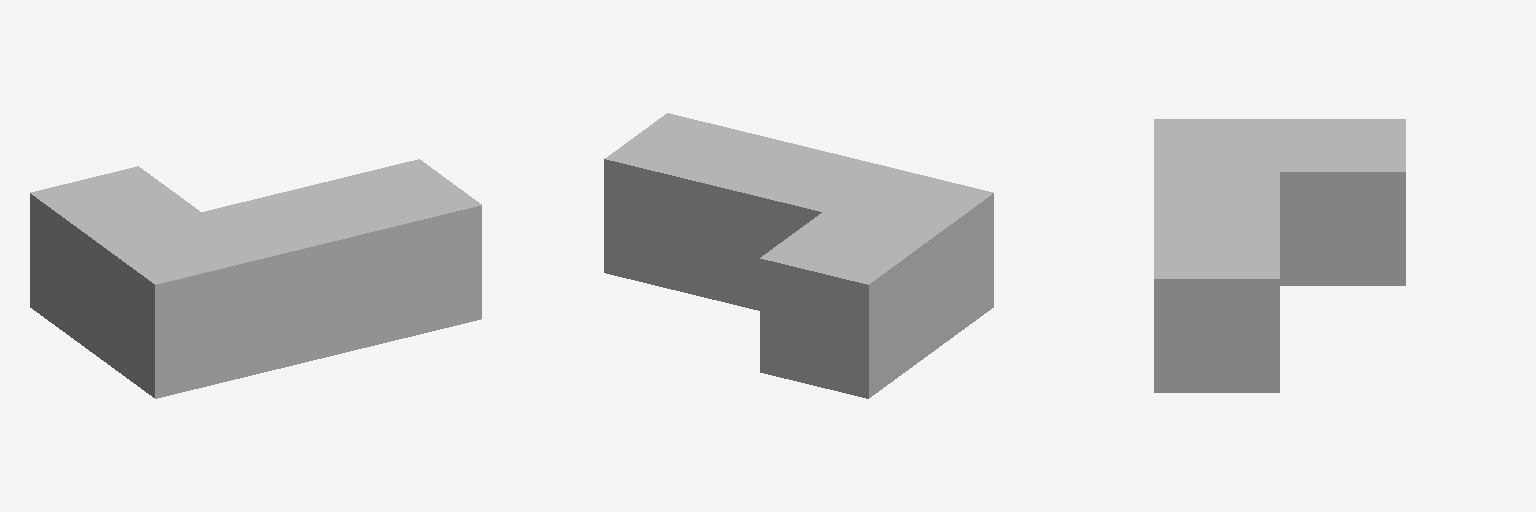
Rendered from CaseStudy2_orig_no_sensors_3670.obj.
The picture shows the model from 3 angles: view 1: azimuth 30°, elevation 25°; view 2: azimuth 150°, elevation 25°; view 3: azimuth 270°, elevation 25°; orthographic projection.
Bounding box in the file's own units: 360 × 120 × 240.